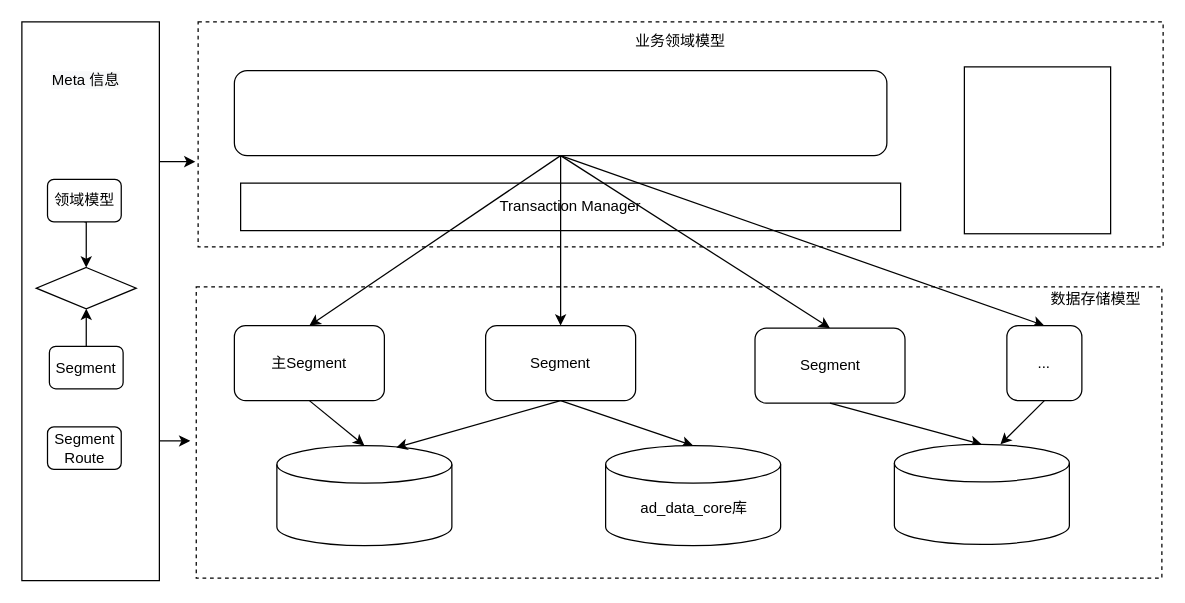
The diagram is 1185 pixels wide and 603 high, and some of its shapes have lost their labels. Each missing label, with the centre of its shape:
ad_data_source库: point 981,493
ad_galaxy库: point 364,495
业务领域实体: point 560,112
数据泵 (领域模型自定义binlog): point 1037,150
映射: point 85,287
